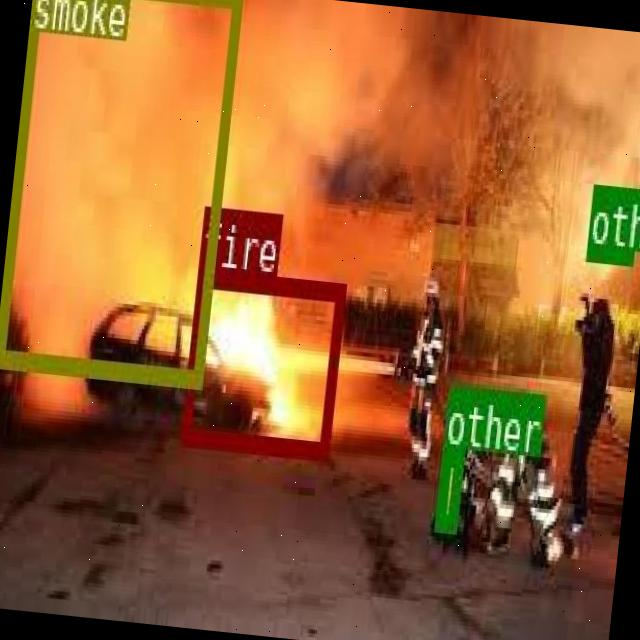fire: (178, 266, 344, 457)
smoke: (0, 0, 242, 382)
